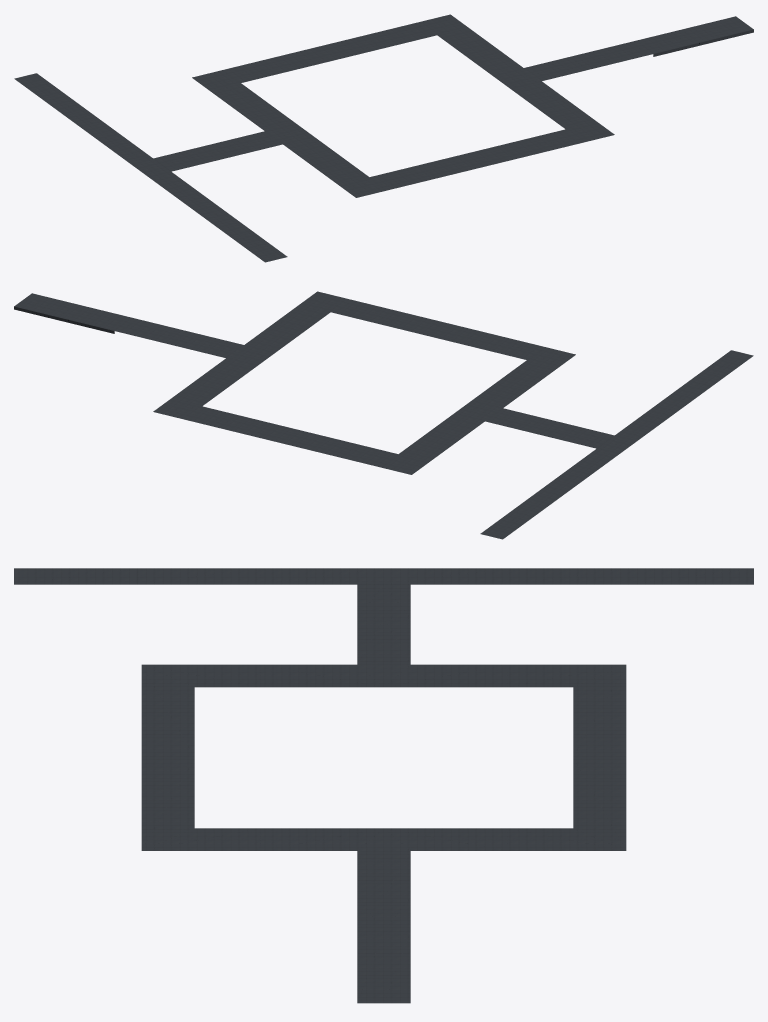
The model's file is floor01.FBX.
3 views of the same model, one above another, from view 1: azimuth 30°, elevation 25°; view 2: azimuth 150°, elevation 25°; view 3: azimuth 270°, elevation 25° (orthographic). The views are drawn at different scales.
Visible parts, largest first — view 1: floor01; view 2: floor01; view 3: floor01.
Boxes of the visible parts, x1=… form: floor01: x1=14, y1=14, x2=753, y2=262; floor01: x1=14, y1=291, x2=753, y2=539; floor01: x1=14, y1=568, x2=753, y2=1003.
Bounding box in the file's own units: 22949 × 108 × 16493.
